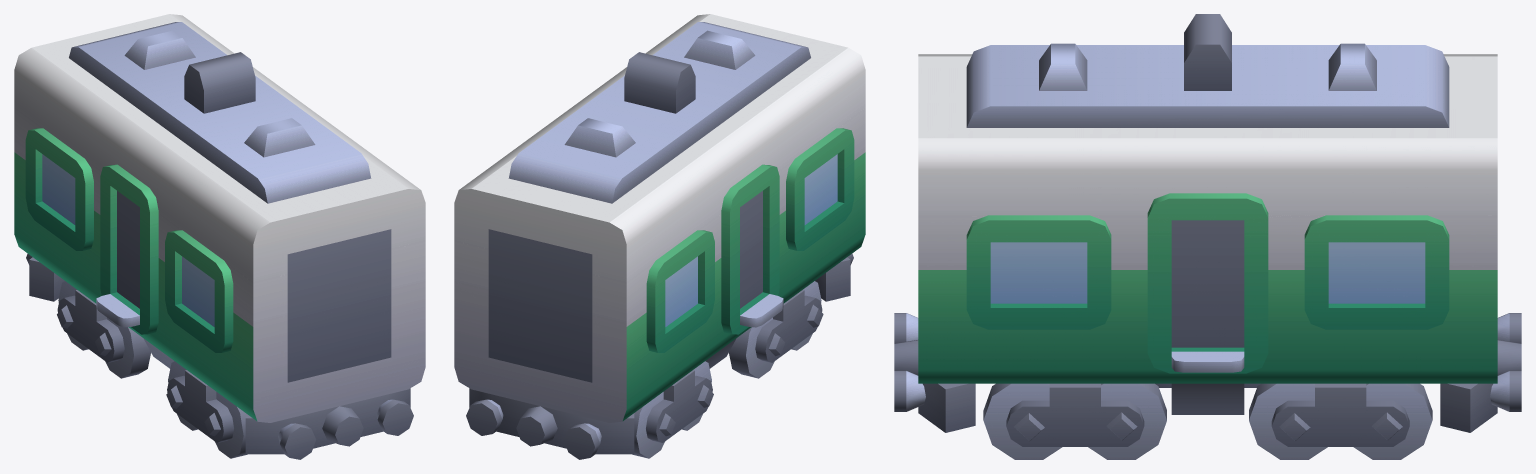
File: train-electric-square-b.glb
3 renders of one model, left to right at view 1: azimuth 30°, elevation 25°; view 2: azimuth 150°, elevation 25°; view 3: azimuth 270°, elevation 25°, orthographic. The views are drawn at different scales.
Parts seen in each view (by area): view 1: train-electric-square-b; view 2: train-electric-square-b; view 3: train-electric-square-b.
Boxes of the visible parts, left/top/right/bottom form: train-electric-square-b: left=14, top=14, right=425, bottom=459; train-electric-square-b: left=454, top=14, right=865, bottom=459; train-electric-square-b: left=894, top=14, right=1521, bottom=459.
Size of the model in its own units: 1.3 by 1.78 by 2.6.
1 material, 1 textured.
